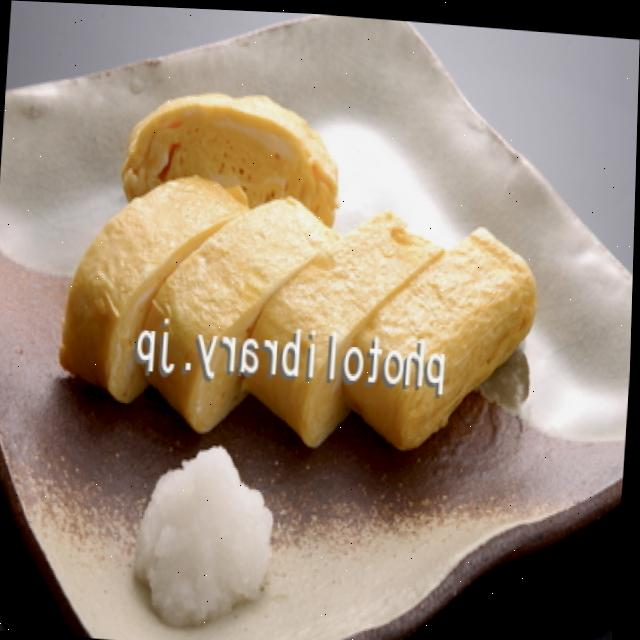鸡蛋料理: (55, 61, 555, 474)
